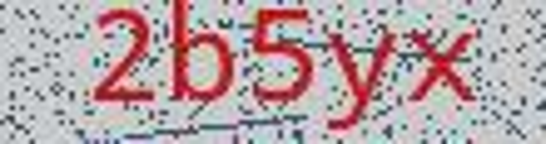2: (86, 3, 162, 113)
5: (246, 3, 312, 107)
b: (166, 1, 237, 104)
x: (402, 19, 480, 106)
y: (320, 27, 394, 139)
